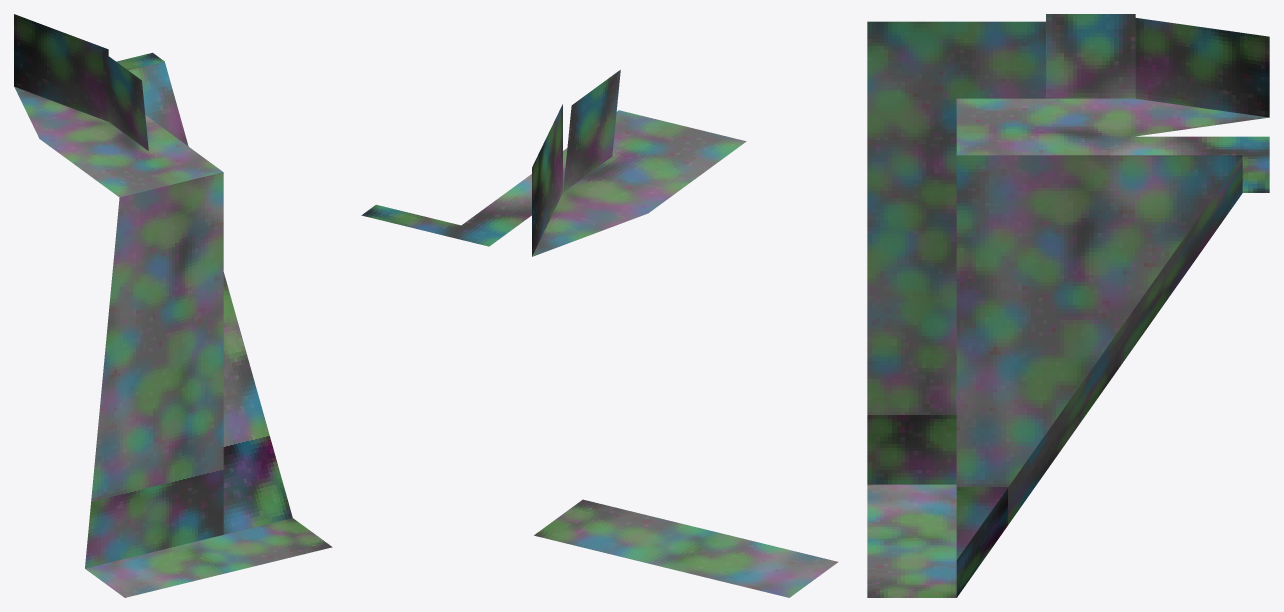
The model's file is wierd_geometry_land.glb.
The picture shows the model from 3 angles, left to right: view 1: azimuth 30°, elevation 25°; view 2: azimuth 150°, elevation 25°; view 3: azimuth 270°, elevation 25°; orthographic projection. The views are drawn at different scales.
Visible parts, largest first — view 1: Plane; view 2: Plane; view 3: Plane.
Boxes of the visible parts, bbox=[...] form: Plane: bbox=[14, 14, 332, 597]; Plane: bbox=[361, 70, 837, 597]; Plane: bbox=[867, 14, 1269, 597].
Bounding box in the file's own units: 30 × 60 × 45.
1 material, 1 textured.
